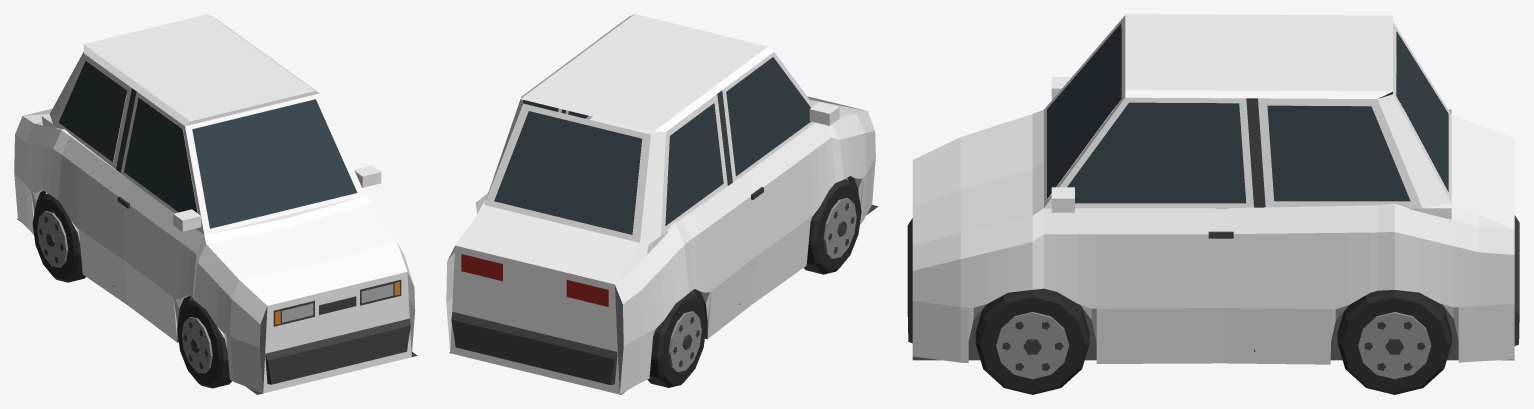
Rendered from tokiwa_urara.glb.
3 views of the same model, side by side, from view 1: azimuth 30°, elevation 25°; view 2: azimuth 150°, elevation 25°; view 3: azimuth 270°, elevation 25° (orthographic). The views are drawn at different scales.
Visible parts, largest first — view 1: tokiwa_urara; view 2: tokiwa_urara; view 3: tokiwa_urara.
Boxes of the visible parts, bbox=[...] form: tokiwa_urara: bbox=[14, 14, 417, 394]; tokiwa_urara: bbox=[446, 14, 878, 394]; tokiwa_urara: bbox=[907, 14, 1519, 394].
Bounding box in the file's own units: 1.48 × 1.65 × 3.16.
8 materials, 1 textured.
